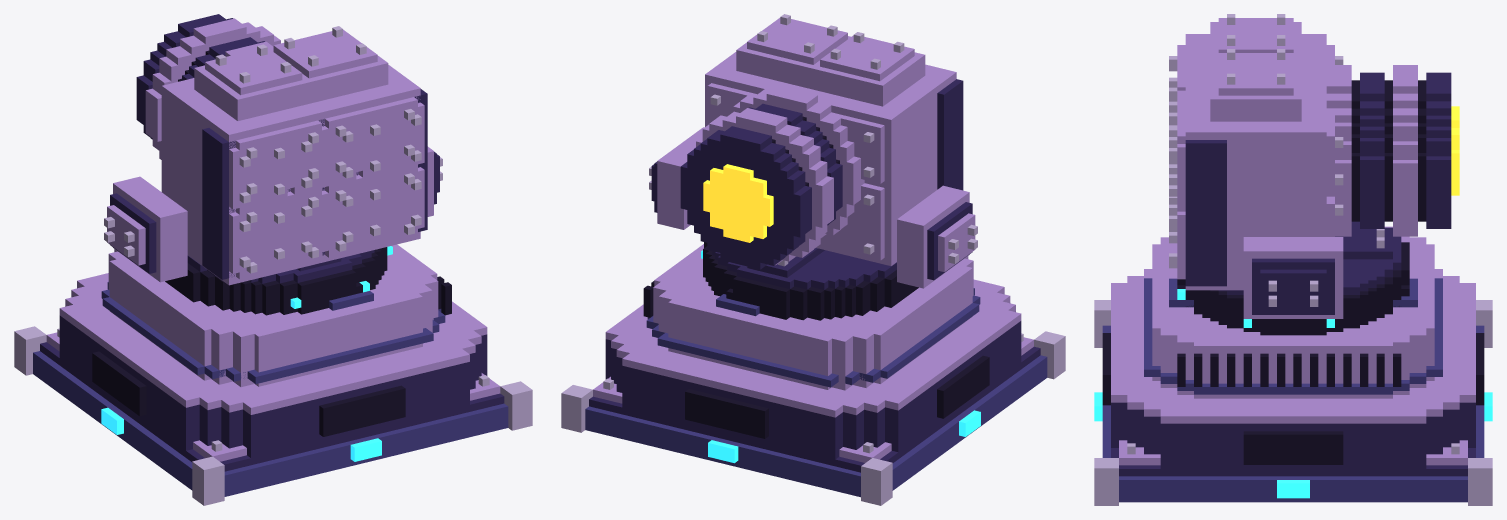
File: plasma-turret.lg.glb
The picture shows the model from 3 angles, left to right: view 1: azimuth 30°, elevation 25°; view 2: azimuth 150°, elevation 25°; view 3: azimuth 270°, elevation 25°; orthographic projection. The views are drawn at different scales.
Parts seen in each view (by area): view 1: plasma-turret.lg; view 2: plasma-turret.lg; view 3: plasma-turret.lg.
Boxes of the visible parts, <box> form: plasma-turret.lg: <box>14,14,532,505</box>; plasma-turret.lg: <box>561,14,1065,505</box>; plasma-turret.lg: <box>1094,14,1492,505</box>.
Bounding box in the file's own units: 3 × 3.12 × 3.
